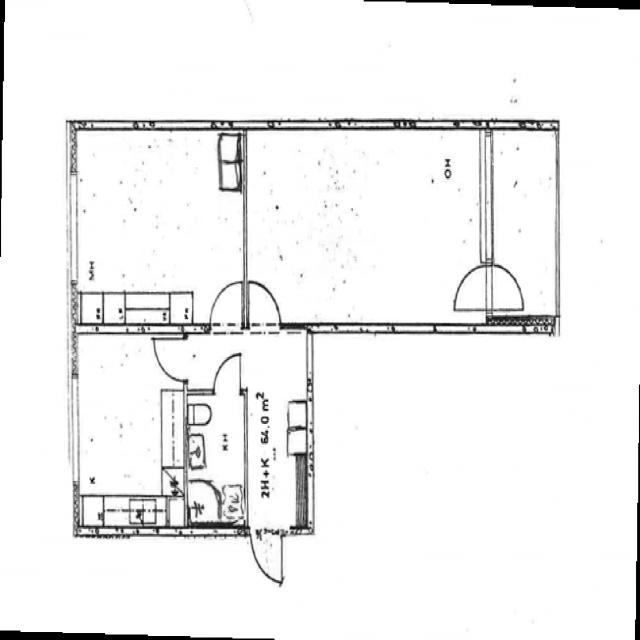door: (449, 260, 498, 315), (480, 260, 527, 312), (149, 329, 187, 387), (250, 528, 286, 588), (208, 275, 245, 333), (246, 276, 282, 327), (210, 351, 247, 398)
window: (62, 368, 84, 485), (414, 113, 458, 132), (487, 113, 522, 134)
zone: (246, 132, 488, 326), (72, 128, 245, 326), (74, 329, 186, 530), (489, 126, 559, 316), (246, 332, 309, 534), (185, 386, 247, 529)
